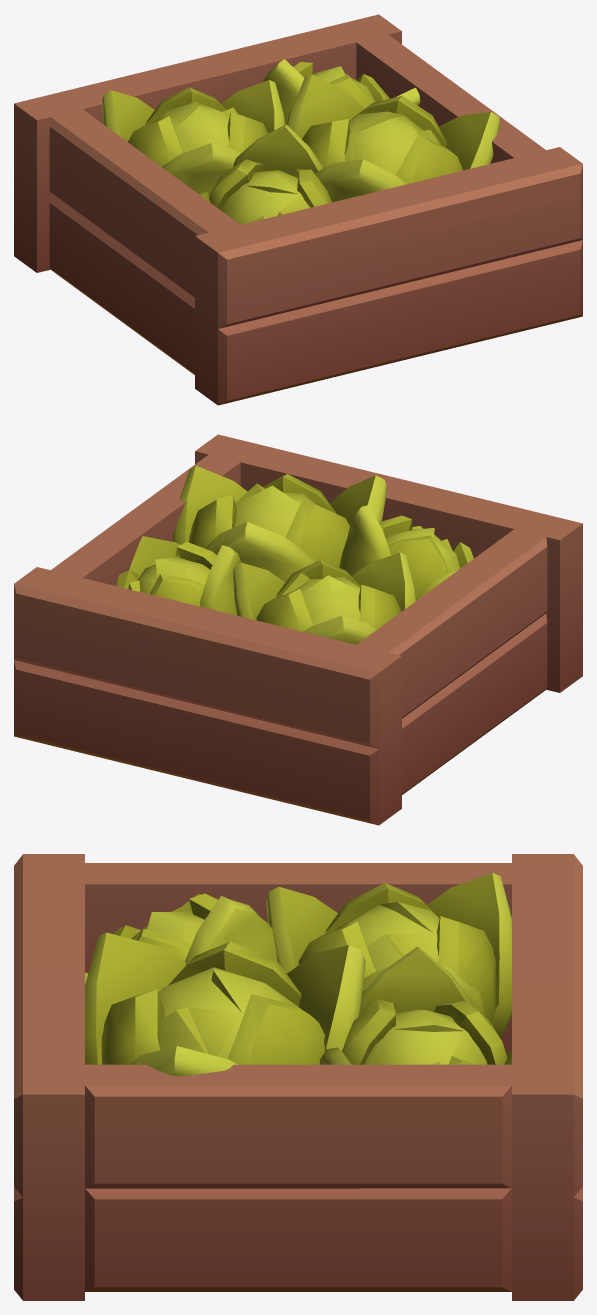
The model's file is kay-caixa-alfaces.gltf.
3 views of the same model, one above another, from view 1: azimuth 30°, elevation 25°; view 2: azimuth 150°, elevation 25°; view 3: azimuth 270°, elevation 25° (orthographic). The views are drawn at different scales.
Visible parts, largest first — view 1: crate_lettuce; view 2: crate_lettuce; view 3: crate_lettuce.
Boxes of the visible parts, x1,y1,x2,y2 form: crate_lettuce: (14,14,582,405); crate_lettuce: (14,434,582,825); crate_lettuce: (14,854,582,1300).
Size of the model in its own units: 1.3 by 0.6488 by 1.3.
Materials: 1 (1 with a texture image).
